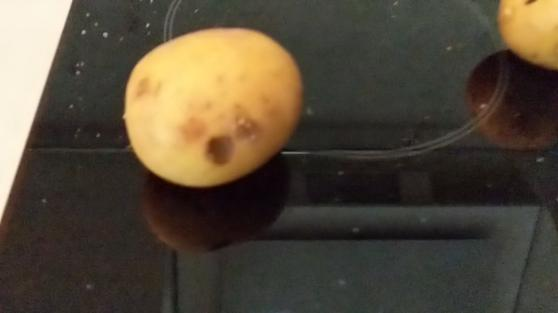potato: (123, 26, 304, 188)
